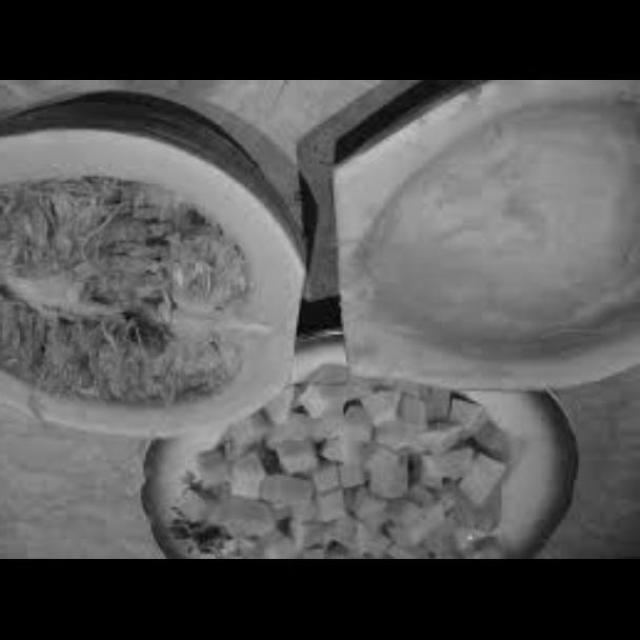bi ngo: (1, 91, 300, 442), (316, 82, 640, 396), (165, 381, 513, 560)
